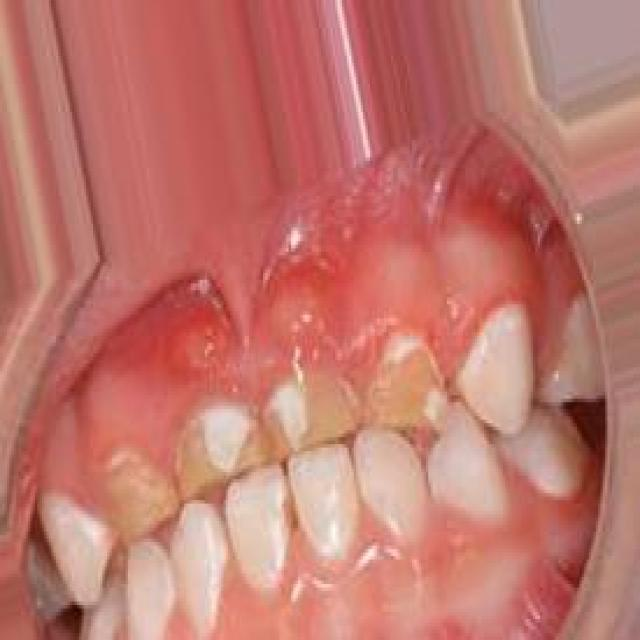caries: (174, 409, 270, 501), (270, 372, 360, 454), (372, 339, 448, 432), (108, 452, 180, 543)
